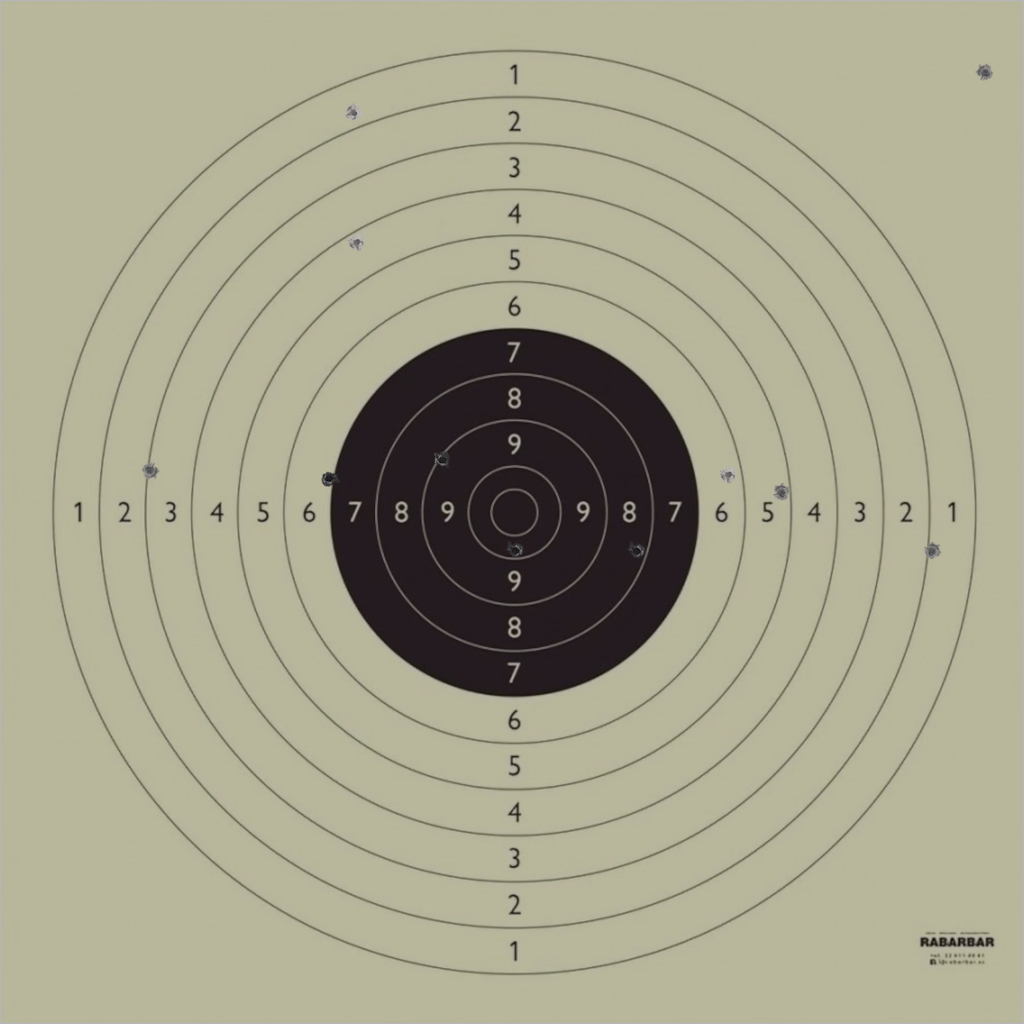0 punktow: (976, 64, 994, 82)
1 punkt: (344, 104, 363, 122)
10 punktow: (506, 541, 525, 559)
2 punkty: (923, 542, 941, 561)
3 punkty: (141, 461, 159, 480)
4 punkty: (348, 233, 366, 252)
5 punktow: (772, 484, 791, 502)
6 punktow: (719, 466, 738, 484)
7 punktow: (320, 470, 339, 488)
8 punktow: (628, 542, 646, 560)
9 punktow: (433, 451, 451, 469)
